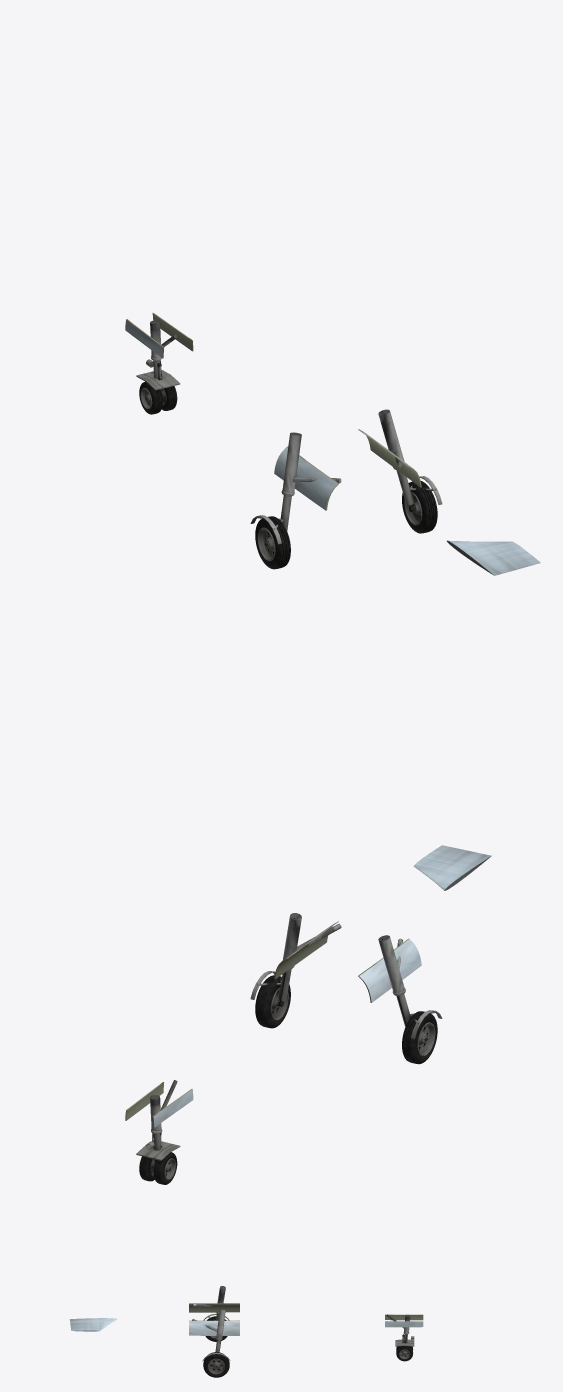
File: mig23_gear.glb
The picture shows the model from 3 angles, top to bottom: view 1: azimuth 30°, elevation 25°; view 2: azimuth 150°, elevation 25°; view 3: azimuth 270°, elevation 25°; orthographic projection. The views are drawn at different scales.
Visible parts, largest first — view 1: gear_m_l, gear_m_r, ventral_g, gear_n, door_m_l_g, door_m_r_g; view 2: gear_m_l, gear_m_r, gear_n, ventral_g, door_m_l_g, door_m_r_g; view 3: gear_m_r, door_m_r_g, gear_n, ventral_g, door_m_l_g, gear_m_l, door_n_r_g, door_n_l_g.
Part boxes in pixels (x1=…): gear_m_l: x1=250, y1=432, x2=341, y2=569; gear_m_r: x1=378, y1=409, x2=442, y2=533; ventral_g: x1=447, y1=540, x2=540, y2=575; gear_n: x1=136, y1=320, x2=180, y2=414; door_m_l_g: x1=274, y1=446, x2=338, y2=510; door_m_r_g: x1=358, y1=429, x2=421, y2=487; gear_m_l: x1=378, y1=935, x2=442, y2=1064; gear_m_r: x1=250, y1=913, x2=341, y2=1028; gear_n: x1=136, y1=1080, x2=180, y2=1184; ventral_g: x1=413, y1=845, x2=491, y2=890; door_m_l_g: x1=358, y1=938, x2=421, y2=1002; door_m_r_g: x1=274, y1=921, x2=338, y2=979; gear_m_r: x1=192, y1=1308, x2=230, y2=1377; door_m_r_g: x1=189, y1=1320, x2=239, y2=1335; gear_n: x1=386, y1=1314, x2=414, y2=1361; ventral_g: x1=69, y1=1318, x2=116, y2=1331; door_m_l_g: x1=189, y1=1303, x2=239, y2=1312; gear_m_l: x1=192, y1=1286, x2=229, y2=1341; door_n_r_g: x1=385, y1=1321, x2=423, y2=1327; door_n_l_g: x1=385, y1=1314, x2=423, y2=1320.
Bounding box in the file's own units: 2.98 × 5.05 × 16.8.
Materials: 1 (1 with a texture image).
